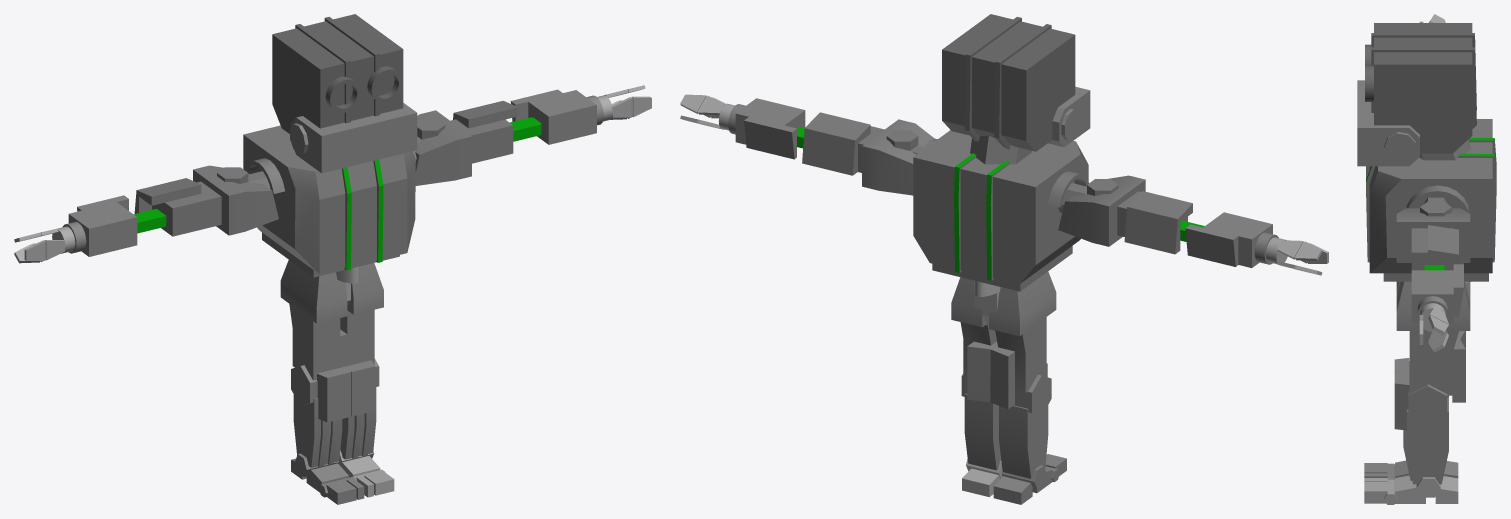
File: robo-1.glb
3 renders of one model, left to right at view 1: azimuth 30°, elevation 25°; view 2: azimuth 150°, elevation 25°; view 3: azimuth 270°, elevation 25°, orthographic. The views are drawn at different scales.
Visible parts, largest first — view 1: body, head, R_Sholder, L_Sholder, R_QUAD, jaw, R_Thy, pCube14, Arm_pCube14, L_Thy, L_QUAD, R_FootBall (+2 smaller); view 2: body, head, R_Sholder, L_Sholder, R_QUAD, R_Thy, Arm_pCube14, pCube14, L_QUAD, L_Thy, jaw, R_FootBall (+2 smaller); view 3: head, body, L_Thy, L_QUAD, L_Sholder, jaw, pCube14, L_FootBall, L_Toe, R_Toe, R_FootBall, pCylinder15 (+3 smaller).
Boxes of the visible parts, x1=… form: body: x1=243, y1=125, x2=420, y2=277; head: x1=272, y1=14, x2=403, y2=133; R_Sholder: x1=134, y1=165, x2=278, y2=236; L_Sholder: x1=415, y1=100, x2=518, y2=185; R_QUAD: x1=280, y1=260, x2=352, y2=380; jaw: x1=290, y1=103, x2=417, y2=173; R_Thy: x1=291, y1=365, x2=350, y2=467; pCube14: x1=510, y1=89, x2=603, y2=144; Arm_pCube14: x1=62, y1=195, x2=137, y2=256; L_Thy: x1=340, y1=358, x2=379, y2=459; L_QUAD: x1=340, y1=263, x2=383, y2=364; R_FootBall: x1=291, y1=453, x2=348, y2=492; body: x1=911, y1=130, x2=1088, y2=291; head: x1=942, y1=14, x2=1075, y2=151; R_Sholder: x1=1058, y1=175, x2=1192, y2=254; L_Sholder: x1=802, y1=112, x2=934, y2=195; R_QUAD: x1=989, y1=271, x2=1056, y2=409; R_Thy: x1=999, y1=363, x2=1051, y2=478; Arm_pCube14: x1=1185, y1=212, x2=1278, y2=267; pCube14: x1=728, y1=98, x2=805, y2=159; L_QUAD: x1=951, y1=277, x2=998, y2=402; L_Thy: x1=961, y1=373, x2=1001, y2=470; jaw: x1=1048, y1=86, x2=1090, y2=147; R_FootBall: x1=993, y1=465, x2=1052, y2=504; head: x1=1365, y1=23, x2=1476, y2=153; body: x1=1366, y1=119, x2=1496, y2=281; L_Thy: x1=1394, y1=371, x2=1448, y2=484; L_QUAD: x1=1396, y1=281, x2=1470, y2=402; L_Sholder: x1=1396, y1=201, x2=1470, y2=270; jaw: x1=1357, y1=80, x2=1419, y2=166; pCube14: x1=1411, y1=264, x2=1463, y2=323; L_FootBall: x1=1395, y1=475, x2=1458, y2=503; L_Toe: x1=1364, y1=478, x2=1397, y2=504; R_Toe: x1=1364, y1=463, x2=1394, y2=480; R_FootBall: x1=1395, y1=460, x2=1458, y2=478; pCylinder15: x1=1420, y1=303, x2=1445, y2=331.
Size of the model in its own units: 0.1468 by 0.0982 by 0.0277.
